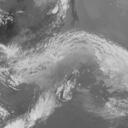cyclone: (35, 31, 111, 102)
